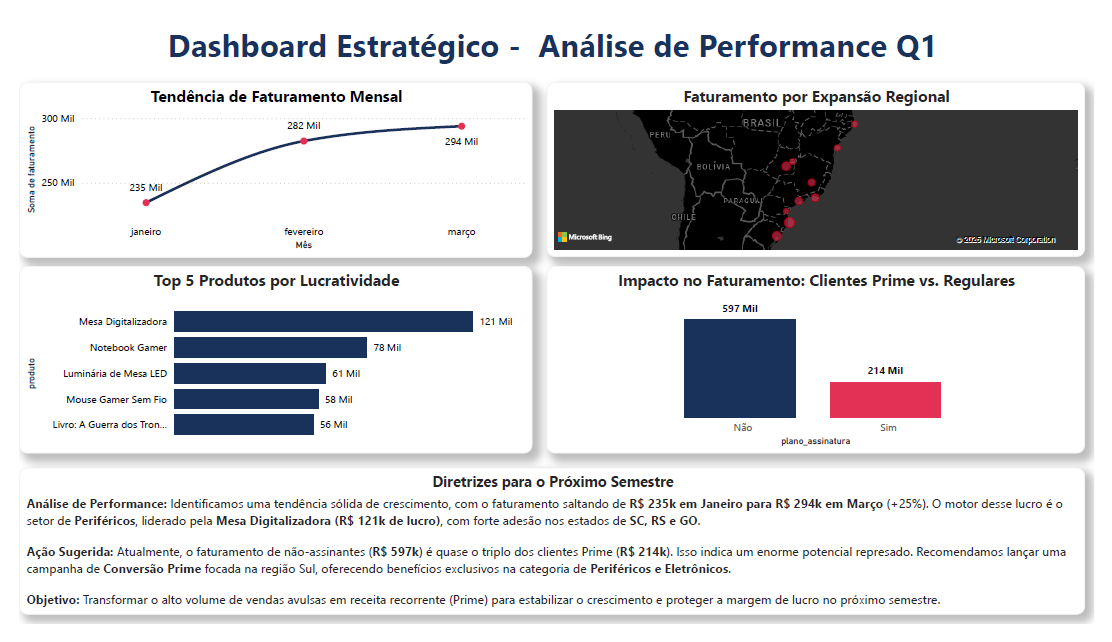

The page's visual inventory and layout, read from the dashboard file:
{"tool":"powerbi","page":{"name":"Dashboard Estratégico","canvas":[1280,720],"ordinal":1},"visuals":[{"type":"lineChart","title":"Tendência de Faturamento Mensal","fields":{"Category":["zoop_megastore vendas.data_venda.Variation.Hierarquia de datas.Mês"],"Y":["Sum(zoop_megastore vendas.faturamento)"]},"box":[0,75.3,611.4,208.2],"z":0},{"type":"barChart","title":"Top 5 Produtos por Lucratividade","fields":{"Category":["zoop_megastore vendas.produto"],"Y":["Sum(zoop_megastore vendas.faturamento)"]},"box":[0,293.9,611.4,223],"z":1000},{"type":"map","title":"Faturamento por Expansão Regional","fields":{"Category":["zoop_megastore clientes.Localizacao_Completa"],"Size":["Sum(zoop_megastore vendas.faturamento)"]},"box":[627.7,75.4,641.5,207.7],"z":2000},{"type":"clusteredColumnChart","title":"Impacto no Faturamento: Clientes Prime vs. Regulares","fields":{"Category":["zoop_megastore clientes.plano_assinatura"],"Y":["Sum(zoop_megastore vendas.faturamento)"]},"box":[627.7,293.8,641.5,223.1],"z":3000},{"type":"textbox","box":[0,0,1280.6,64.2],"z":3001},{"type":"textbox","title":"Diretrizes para o Próximo Semestre","box":[0,533.8,1269.2,175.4],"z":3002}]}

Visuals, with their boxes in screenshot pixels (x1, y1, x2, y2), scaled from the page's 1280x720 canvas onto the 1112x642 screenshot:
"Tendência de Faturamento Mensal" lineChart: [left=0, top=67, right=531, bottom=253]
"Top 5 Produtos por Lucratividade" barChart: [left=0, top=262, right=531, bottom=461]
"Faturamento por Expansão Regional" map: [left=545, top=67, right=1103, bottom=252]
"Impacto no Faturamento: Clientes Prime vs. Regulares" clusteredColumnChart: [left=545, top=262, right=1103, bottom=461]
textbox: [left=0, top=0, right=1111, bottom=57]
"Diretrizes para o Próximo Semestre" textbox: [left=0, top=476, right=1103, bottom=632]
